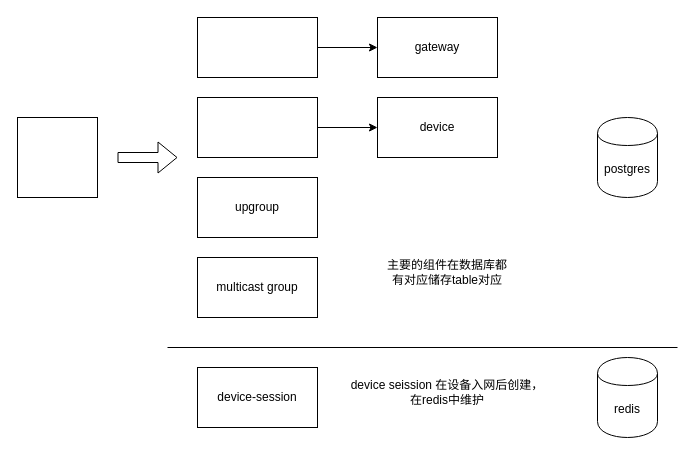
The diagram is 696 pixels wide and 455 high, and some of its shapes have lost their labels. Each missing label, with the centre of its shape:
device-profile: point 257,127
gateway-profile: point 257,47
ns: point 57,157
